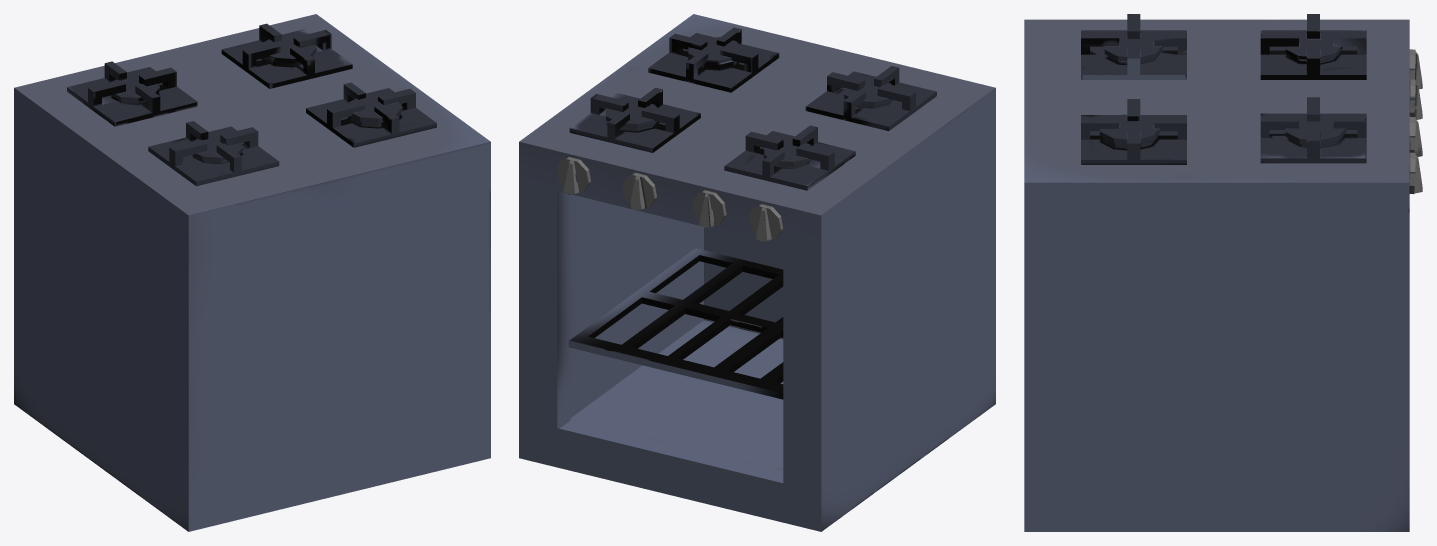
The model's file is OvenBody.fbx.
3 views of the same model, side by side, from view 1: azimuth 30°, elevation 25°; view 2: azimuth 150°, elevation 25°; view 3: azimuth 270°, elevation 25° (orthographic). The views are drawn at different scales.
Visible parts, largest first — view 1: Oven; view 2: Oven; view 3: Oven.
Boxes of the visible parts, bbox=[...] form: Oven: bbox=[14, 14, 490, 531]; Oven: bbox=[519, 14, 995, 531]; Oven: bbox=[1024, 14, 1422, 531].
Size of the model in its own units: 39.68 by 38.38 by 40.98.
Materials: 1 (1 with a texture image).
